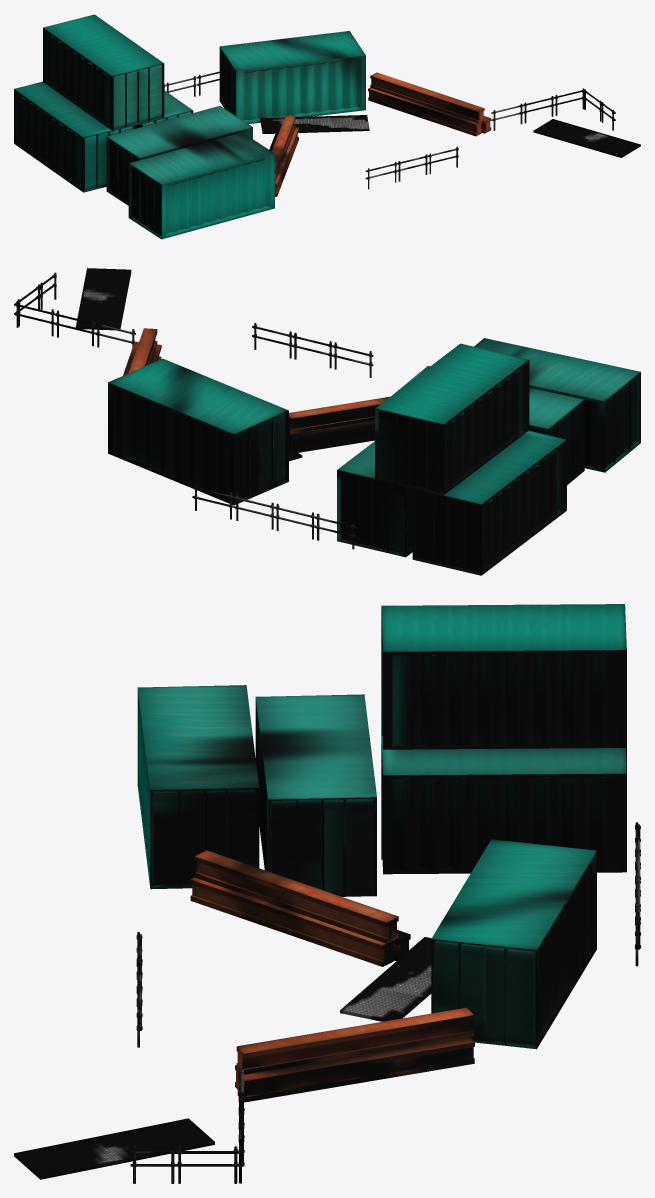
The model's file is bill2-object.obj.
The picture shows the model from 3 angles, top to bottom: view 1: azimuth 30°, elevation 25°; view 2: azimuth 150°, elevation 25°; view 3: azimuth 270°, elevation 25°; orthographic projection. The views are drawn at different scales.
Bounding box in the file's own units: 44.66 × 10.02 × 28.9.
1 material, 1 textured.
